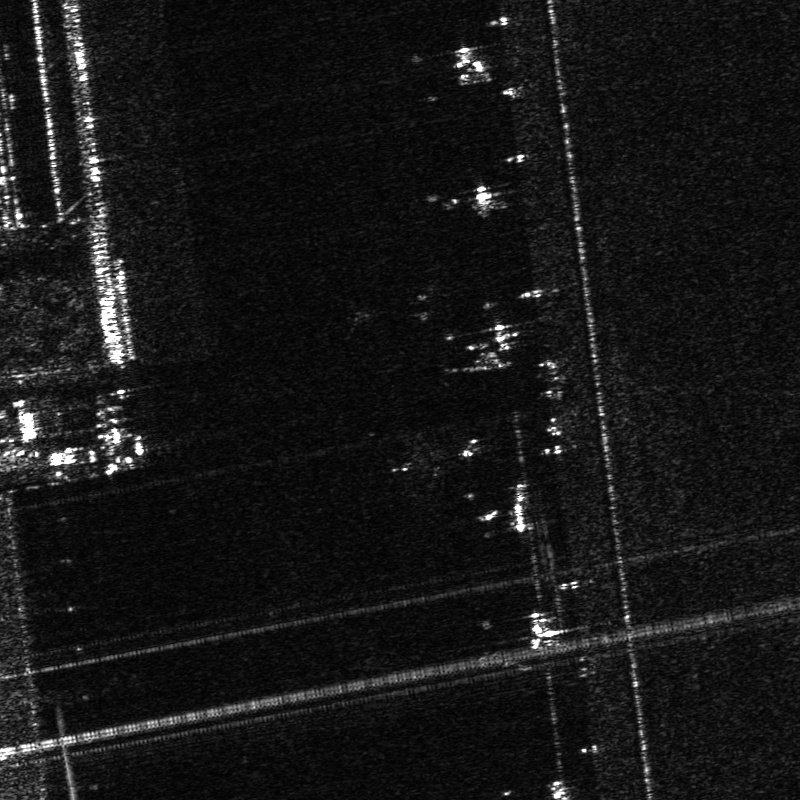A220: (383, 430, 454, 497)
